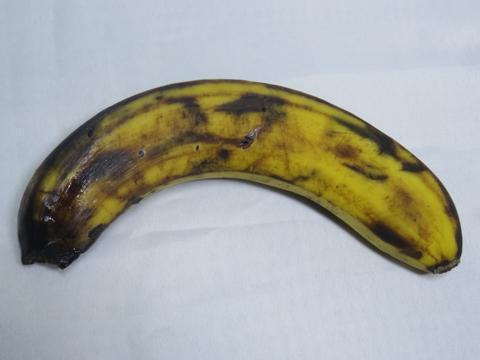overripe: (16, 65, 479, 315)
rotten: (0, 148, 140, 276)
